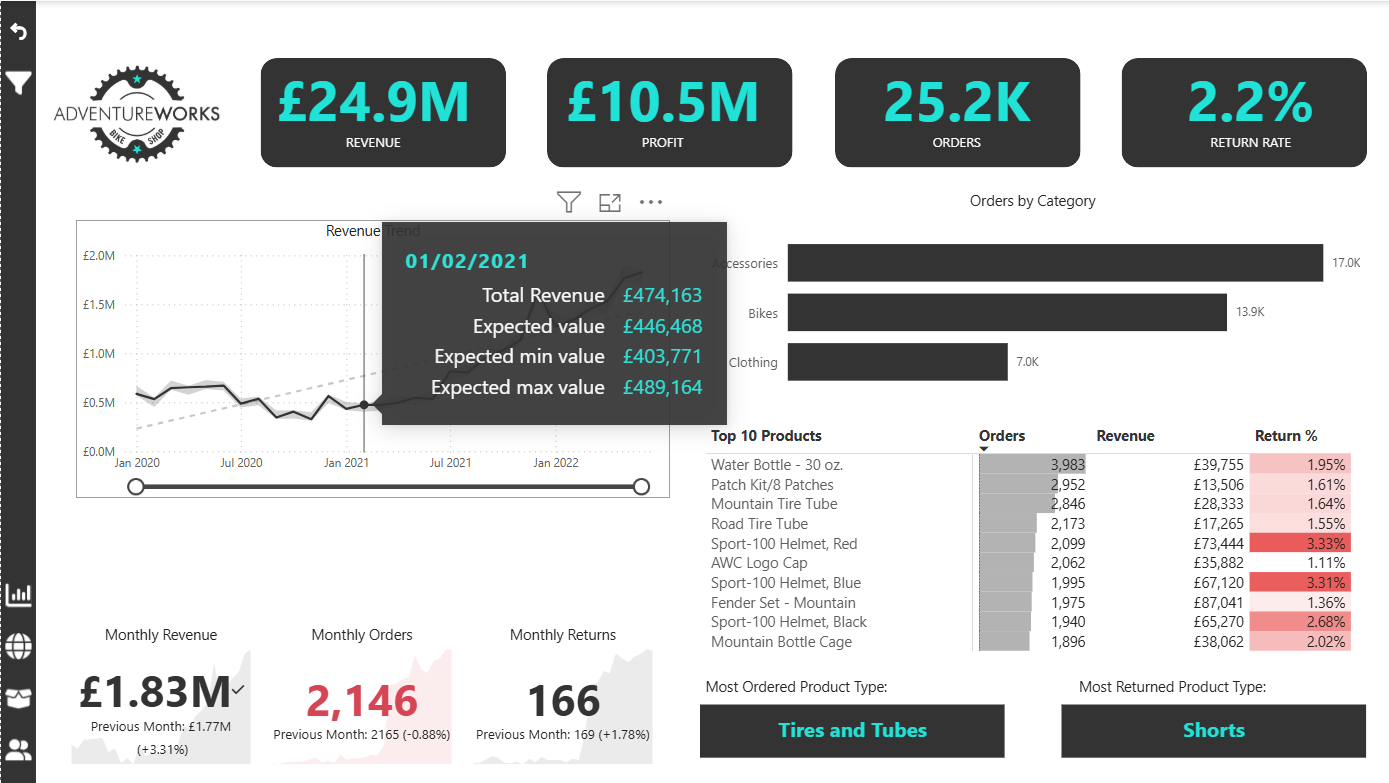

The dashboard page shown, as its layout file describes it:
{"tool":"powerbi","page":{"name":"Executive Dashboard","canvas":[1280,720],"ordinal":0},"visuals":[{"type":"card","fields":{"Values":["Measure Table.Total Profit"]},"box":[498,34.9,214,123.6],"z":0,"group":"g2"},{"type":"group","id":"g1","title":"KPI Background","box":[237.4,52.7,1012.5,100.5],"z":0,"group":"g3"},{"type":"shape","box":[237.4,52.7,224.8,100.3],"z":0,"group":"g1"},{"type":"image","title":"AW Logo","box":[32.2,52.8,186.3,100.3],"z":0},{"type":"actionButton","box":[0,525.7,32.2,35.8],"z":0,"group":"g4"},{"type":"shape","title":"Left Nav Background","box":[0,0,32.2,720],"z":1000},{"type":"group","id":"g2","title":"KPI Values","box":[233.5,34.9,1016.7,123.6],"z":1000,"group":"g3"},{"type":"card","fields":{"Values":["Measure Table.Total Orders"]},"box":[767.1,34.9,214,123.6],"z":1000,"group":"g2"},{"type":"shape","box":[500,52.7,224.8,100.3],"z":1000,"group":"g1"},{"type":"actionButton","box":[0,572.9,32.2,35.8],"z":1000,"group":"g4"},{"type":"group","id":"g3","title":"KPIs","box":[233.5,34.9,1016.7,123.6],"z":2000},{"type":"card","fields":{"Values":["Measure Table.Return Rate"]},"box":[1036.2,34.9,214,123.6],"z":2000,"group":"g2"},{"type":"shape","box":[762.5,52.7,224.8,100.3],"z":2000,"group":"g1"},{"type":"actionButton","box":[0,620,32.2,35.8],"z":2000,"group":"g4"},{"type":"card","fields":{"Values":["Measure Table.Total Revenue"]},"box":[233.5,34.9,214,123.6],"z":3000,"group":"g2"},{"type":"shape","box":[1025.1,52.9,224.8,100.3],"z":3000,"group":"g1"},{"type":"lineChart","title":"Revenue Trend","fields":{"Category":["Calendar Lookup.Start of Month"],"Y":["Measure Table.Total Revenue"]},"box":[69,199.7,543.6,255.2],"z":3000},{"type":"actionButton","box":[0,667.2,32.2,35.8],"z":3000,"group":"g4"},{"type":"kpi","title":"Monthly Revenue","fields":{"Goal":["Measure Table.Previous Month revenue"],"Indicator":["Measure Table.Total Revenue"],"TrendLine":["Calendar Lookup.Start of Month"]},"box":[58.3,569.8,174.6,133.4],"z":4000},{"type":"kpi","title":"Monthly Returns","fields":{"Goal":["Measure Table.Previous Month Returns"],"Indicator":["Measure Table.Total Returns"],"TrendLine":["Calendar Lookup.Start of Month"]},"box":[427.3,569.8,174.6,133.4],"z":5000},{"type":"kpi","title":"Monthly Orders","fields":{"Goal":["Measure Table.Previous Month Orders"],"Indicator":["Measure Table.Total Orders"],"TrendLine":["Calendar Lookup.Start of Month"]},"box":[242.8,569.8,174.6,133.4],"z":6000},{"type":"clusteredBarChart","title":"Orders by Category","fields":{"Category":["Product Categories Lookup.CategoryName"],"Y":["Measure Table.Total Orders"]},"box":[640,172.7,608.9,199.1],"z":7000},{"type":"pivotTable","fields":{"Rows":["Product Lookup.ProductName"],"Values":["Measure Table.Total Orders","Measure Table.Total Revenue","Measure Table.Return Rate"]},"box":[640,383.3,608.9,229.1],"z":8000},{"type":"card","fields":{"Values":["Min(Product Subcategories Lookup.SubcategoryName)"]},"box":[640,643.5,278.6,48.3],"z":9000},{"type":"textbox","box":[640,612.4,193.4,48.3],"z":10000},{"type":"card","fields":{"Values":["Min(Product Subcategories Lookup.SubcategoryName)"]},"box":[970.4,643.5,278.6,48.3],"z":11000},{"type":"textbox","box":[980.7,612.4,193.4,48.3],"z":12000},{"type":"actionButton","box":[3.6,9,24.2,35.8],"z":13000},{"type":"group","id":"g4","title":"Navigation Buttons","box":[0,525.7,32.2,177.3],"z":14000},{"type":"actionButton","box":[0,54.4,32.3,40.3],"z":15000}]}

Visuals, with their boxes on the page's 1280x720 design canvas (x1, y1, x2, y2). These are canvas units, not pixel positions in the 1389x783 screenshot, which may show the page scaled, cropped or inside an application window:
card - Measure Table.Total Profit: x1=498 y1=35 x2=712 y2=158
"KPI Background" group: x1=237 y1=53 x2=1250 y2=153
shape: x1=237 y1=53 x2=462 y2=153
"AW Logo" image: x1=32 y1=53 x2=218 y2=153
actionButton: x1=0 y1=526 x2=32 y2=562
"Left Nav Background" shape: x1=0 y1=0 x2=32 y2=720
"KPI Values" group: x1=234 y1=35 x2=1250 y2=158
card - Measure Table.Total Orders: x1=767 y1=35 x2=981 y2=158
shape: x1=500 y1=53 x2=725 y2=153
actionButton: x1=0 y1=573 x2=32 y2=609
"KPIs" group: x1=234 y1=35 x2=1250 y2=158
card - Measure Table.Return Rate: x1=1036 y1=35 x2=1250 y2=158
shape: x1=762 y1=53 x2=987 y2=153
actionButton: x1=0 y1=620 x2=32 y2=656
card - Measure Table.Total Revenue: x1=234 y1=35 x2=448 y2=158
shape: x1=1025 y1=53 x2=1250 y2=153
"Revenue Trend" lineChart: x1=69 y1=200 x2=613 y2=455
actionButton: x1=0 y1=667 x2=32 y2=703
"Monthly Revenue" kpi: x1=58 y1=570 x2=233 y2=703
"Monthly Returns" kpi: x1=427 y1=570 x2=602 y2=703
"Monthly Orders" kpi: x1=243 y1=570 x2=417 y2=703
"Orders by Category" clusteredBarChart: x1=640 y1=173 x2=1249 y2=372
pivotTable - Product Lookup.ProductName x Measure Table.Total Orders: x1=640 y1=383 x2=1249 y2=612
card - Min(Product Subcategories Lookup.SubcategoryName): x1=640 y1=644 x2=919 y2=692
textbox: x1=640 y1=612 x2=833 y2=661
card - Min(Product Subcategories Lookup.SubcategoryName): x1=970 y1=644 x2=1249 y2=692
textbox: x1=981 y1=612 x2=1174 y2=661
actionButton: x1=4 y1=9 x2=28 y2=45
"Navigation Buttons" group: x1=0 y1=526 x2=32 y2=703
actionButton: x1=0 y1=54 x2=32 y2=95
